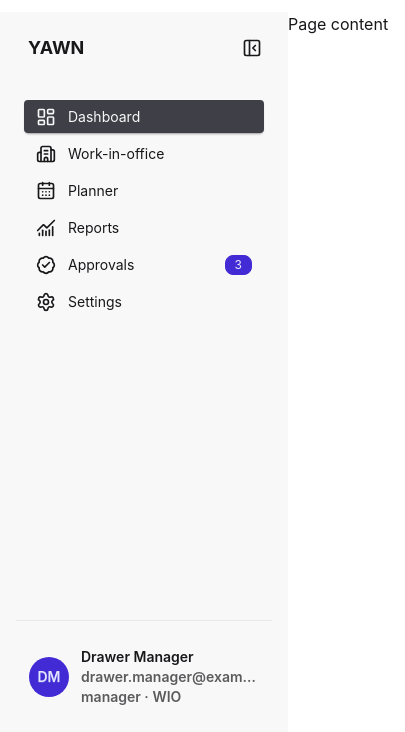
Scenario: AppShell navigation › shows the manager approval badge and account actions
Expected: the link with aria-label "Approvals: 3 pending claim(s)" is shown, 24,248 -> 264,281
Step 1. Click the button with aria-label "Account menu for Drawer Manager" → (144, 676), box 16,637 -> 272,716
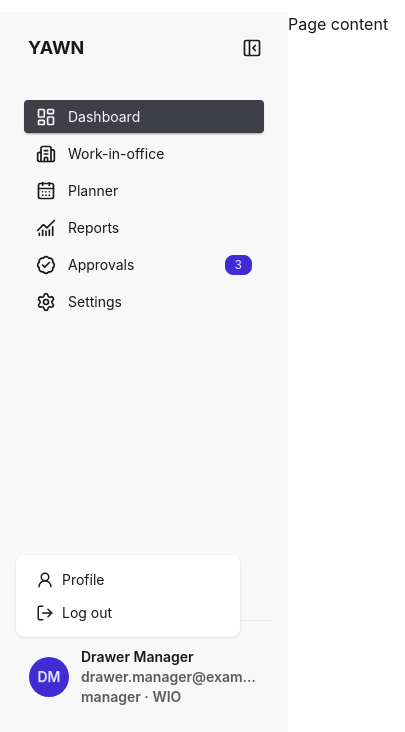
Expected: the link "Profile" is shown, 36,570 -> 104,588
Expected: the button "Log out" is shown, 24,596 -> 232,629
